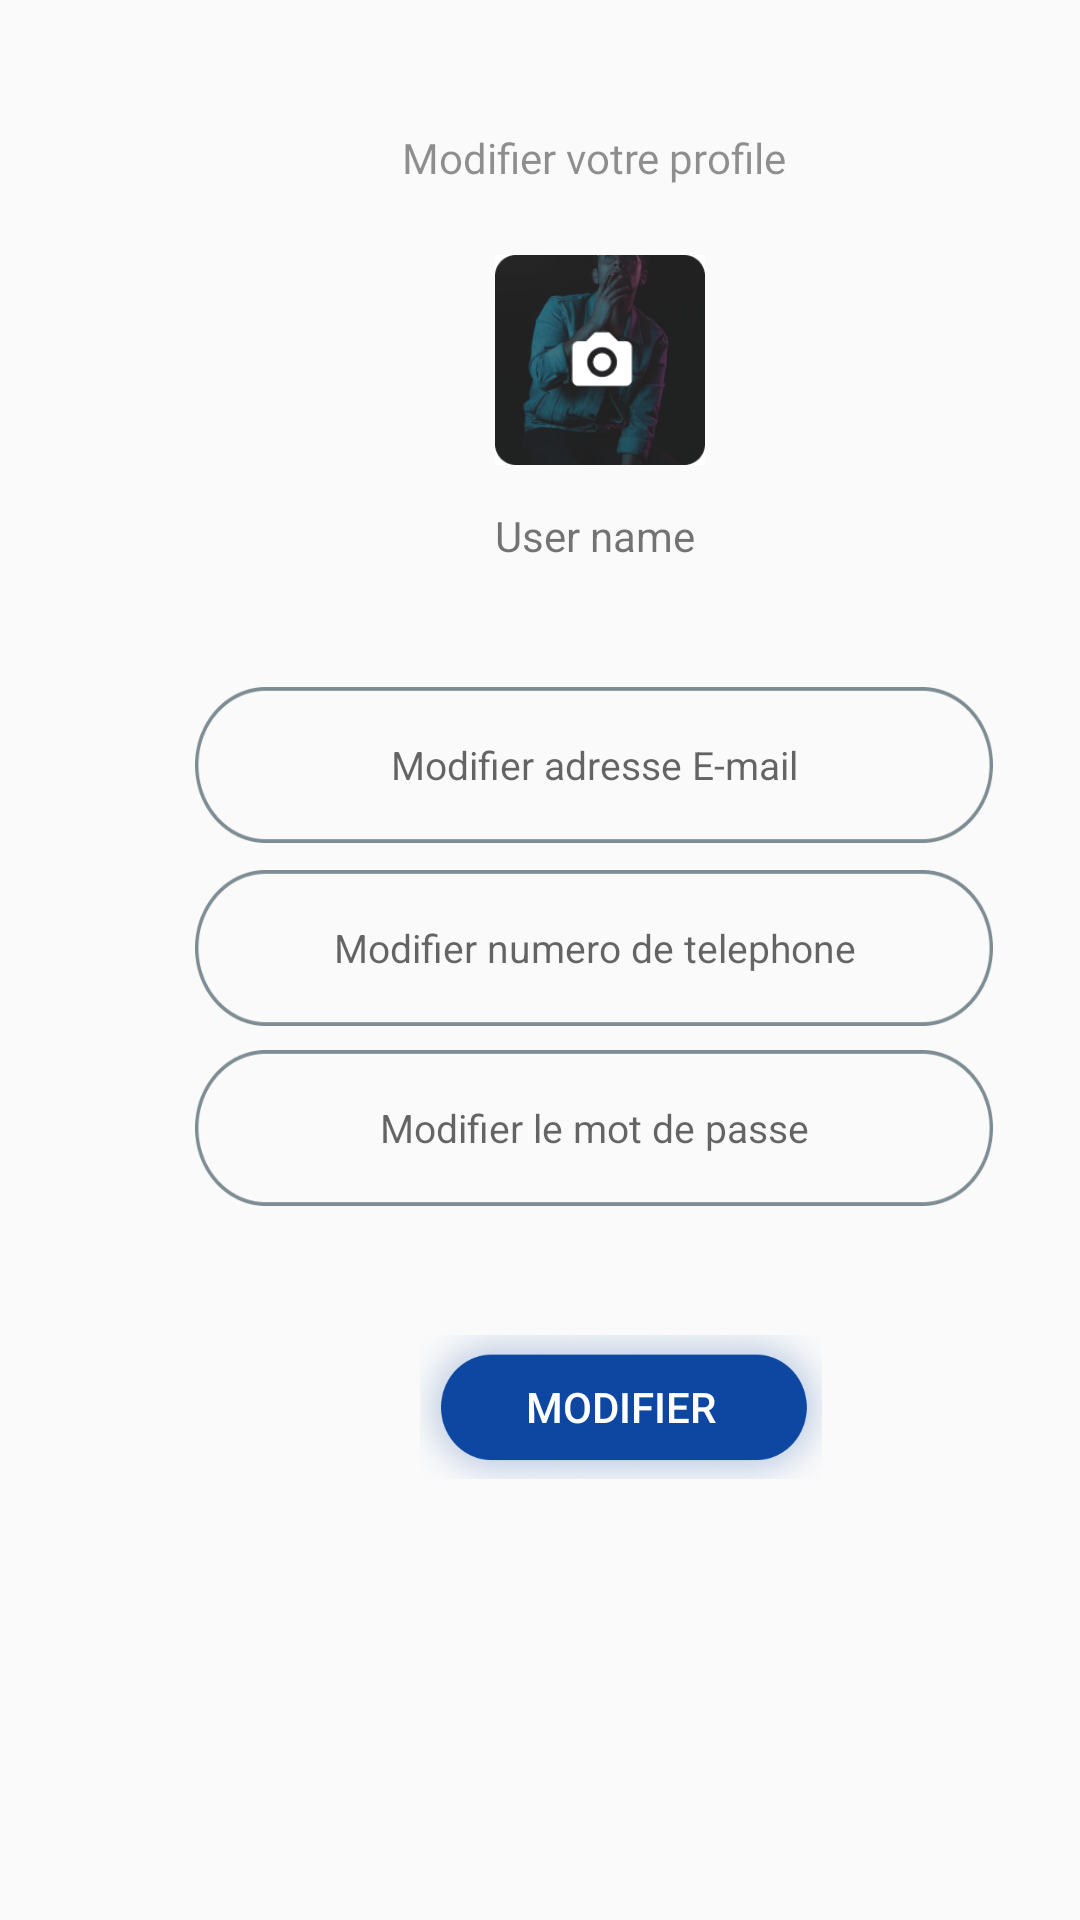

Where icons sit on this 1080 x 1920 app screen, as (x1, y1, x2, y2):
photo: (495, 255, 705, 465)
